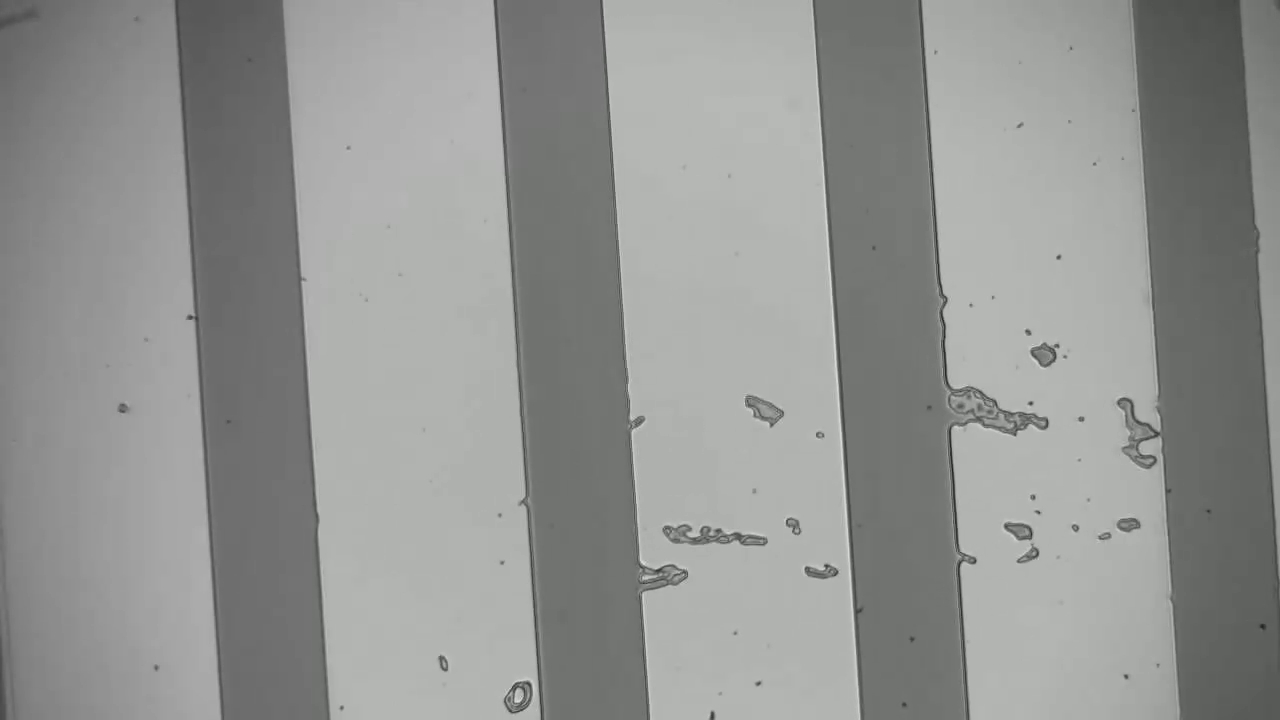edge_bite: (935, 286, 956, 316)
